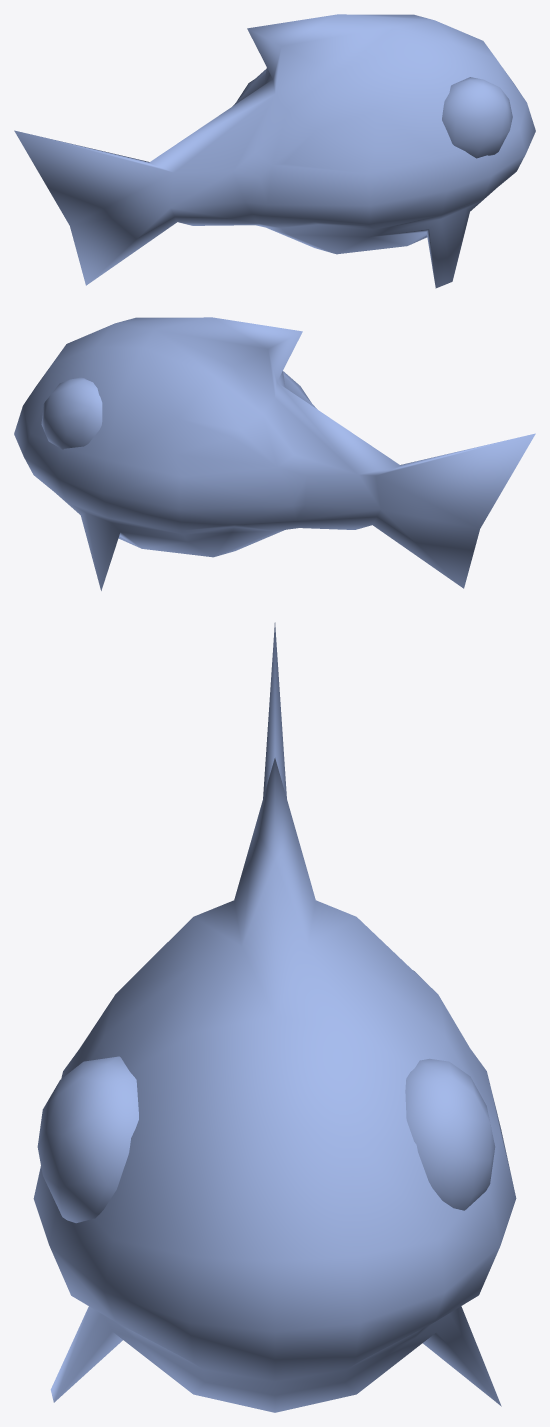
File: POISSON1.fbx
3 renders of one model, top to bottom at view 1: azimuth 30°, elevation 25°; view 2: azimuth 150°, elevation 25°; view 3: azimuth 270°, elevation 25°, orthographic. The views are drawn at different scales.
Parts seen in each view (by area): view 1: Roundcube.001; view 2: Roundcube.001; view 3: Roundcube.001.
Part boxes in pixels (x1,y1,x2,y2): Roundcube.001: (14, 14, 535, 288); Roundcube.001: (14, 317, 535, 590); Roundcube.001: (33, 622, 516, 1412).
Size of the model in its own units: 5.35 by 13.05 by 6.22.
